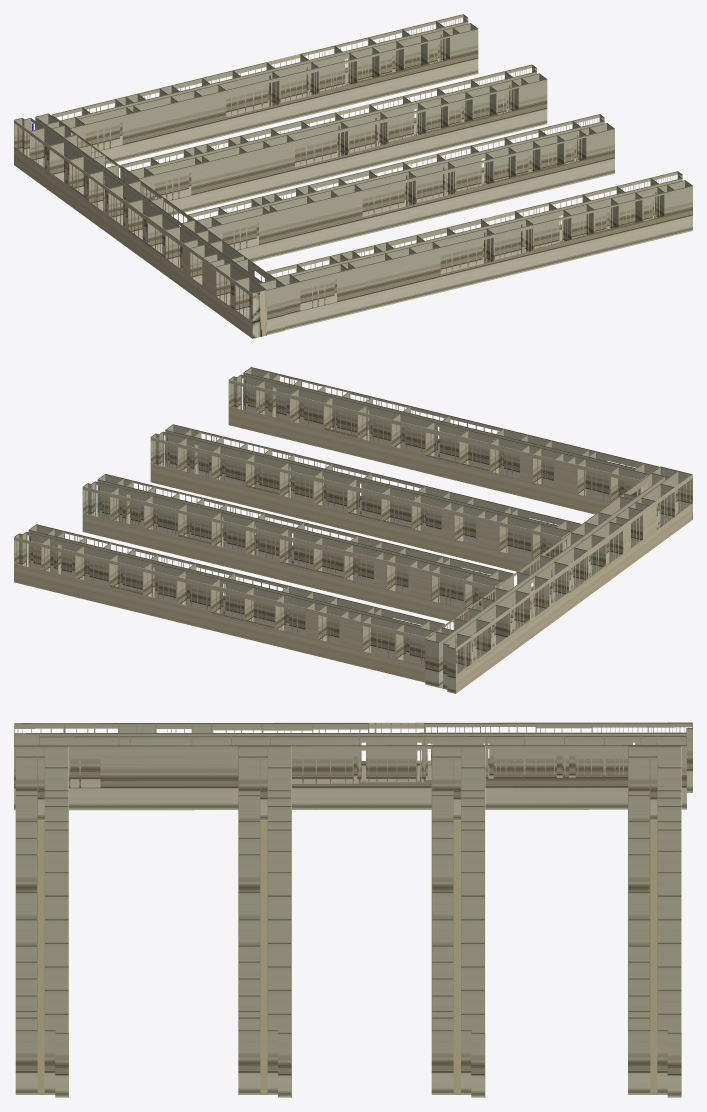
The model's file is IMT_ESPACE_ ECOLE_STRUCTURE.glb.
3 renders of one model, top to bottom at view 1: azimuth 30°, elevation 25°; view 2: azimuth 150°, elevation 25°; view 3: azimuth 270°, elevation 25°, orthographic. The views are drawn at different scales.
Visible parts, largest first — view 1: BLOC B, BLOC D, BLOC E, BLOC C, BLOC A; view 2: BLOC E, BLOC C, BLOC D, BLOC B, BLOC A; view 3: BLOC A, BLOC D, BLOC E, BLOC B, BLOC C.
Part boxes in pixels (x1,y1,x2,y2): BLOC B: (266,171,692,330); BLOC D: (120,64,547,215); BLOC E: (51,14,478,164); BLOC C: (188,114,614,261); BLOC A: (14,113,284,338); BLOC E: (14,524,444,682); BLOC C: (150,424,581,574); BLOC D: (82,474,513,622); BLOC B: (228,367,659,514); BLOC A: (425,466,692,693); BLOC A: (14,722,692,810); BLOC D: (431,746,485,1097); BLOC E: (628,746,681,1097); BLOC B: (15,746,68,1097); BLOC C: (238,746,291,1097).
Size of the model in its own units: 156 by 15.18 by 145.
Materials: 35 (5 with a texture image).
